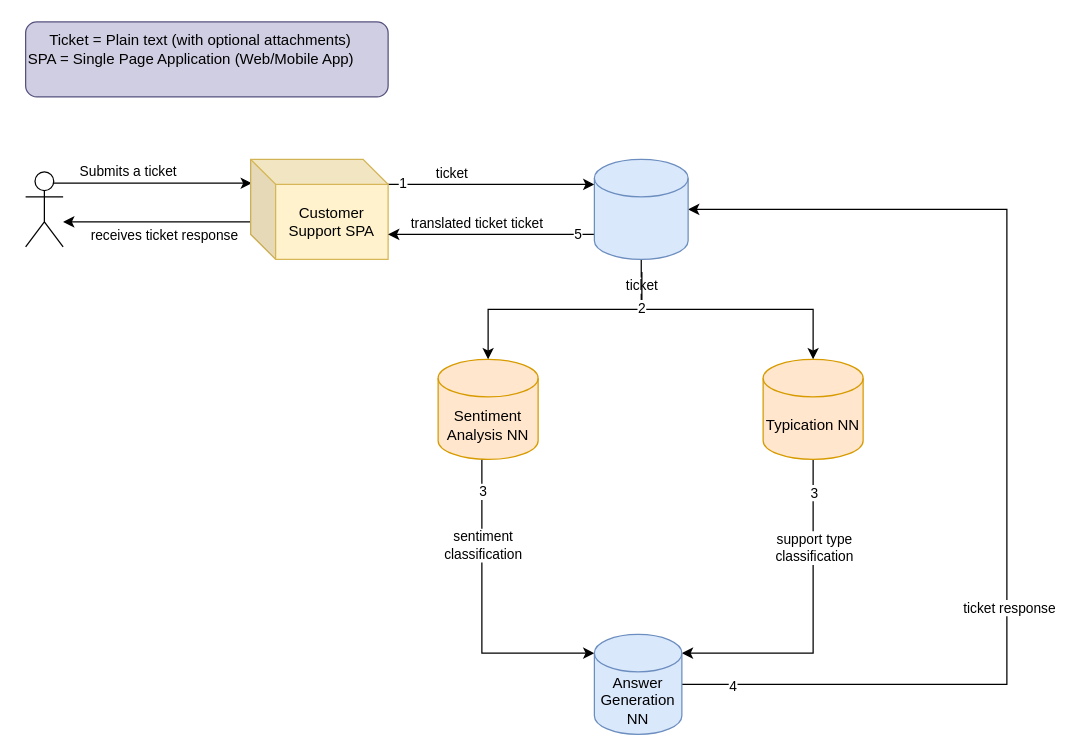
Image size: 1076x756. Some labels were removed from this diagram. Each missing label, with the centre of its shape:
"Cliente" goes at (43,209).
"Translations NN" goes at (640,208).
